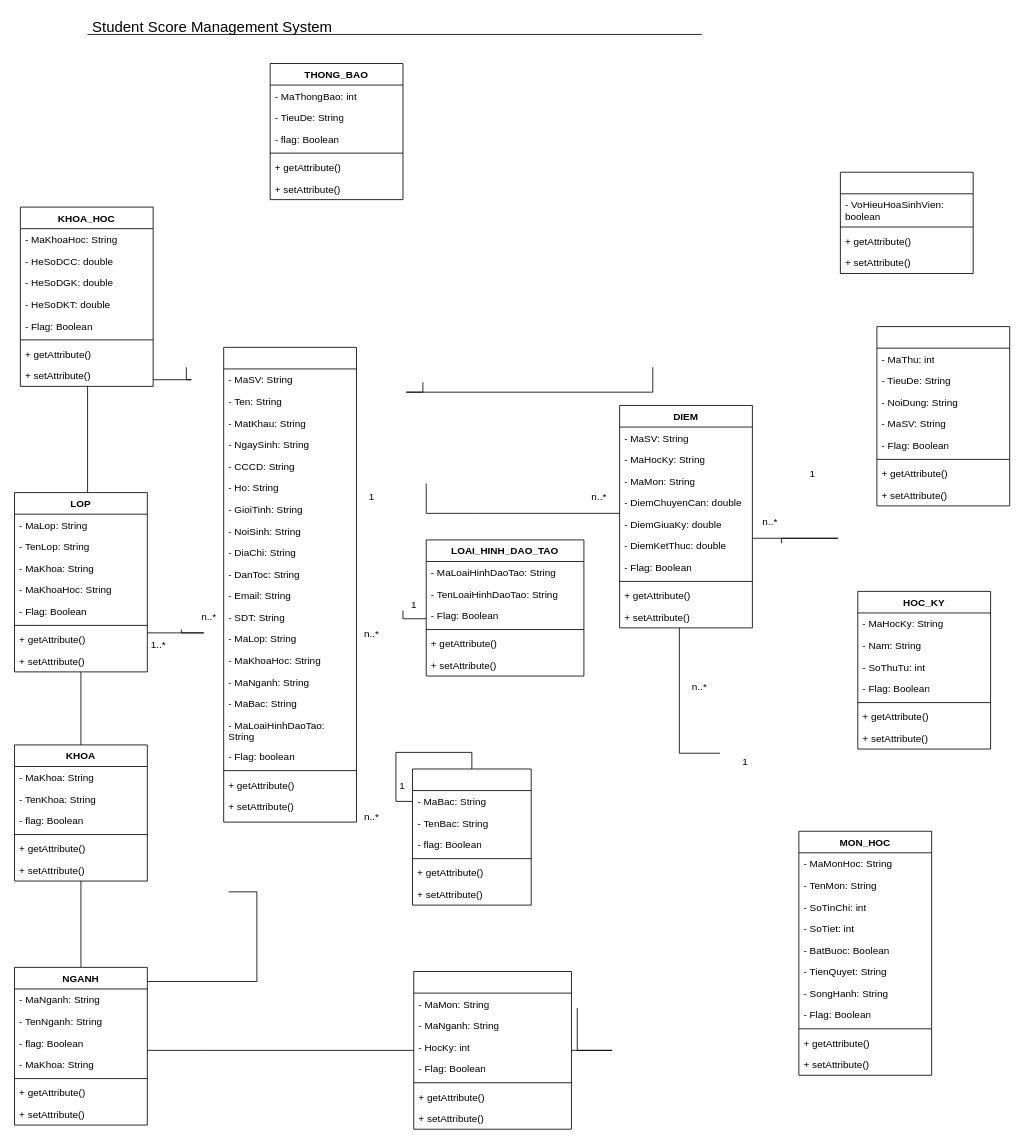
Some shapes in this 1024 by 1145 pixel diagram are drawn without their labels. Here are the shapes that lost their labels. From the top down, the box of each, then its label:
(840, 171, 973, 273): DIEU_KHIEN
(876, 326, 1010, 506): HOM_THU
(223, 347, 356, 822): SINH_VIEN
(412, 768, 531, 905): BAC_DAO_TAO
(413, 971, 571, 1129): CHUONG_TRINH_KHUNG
